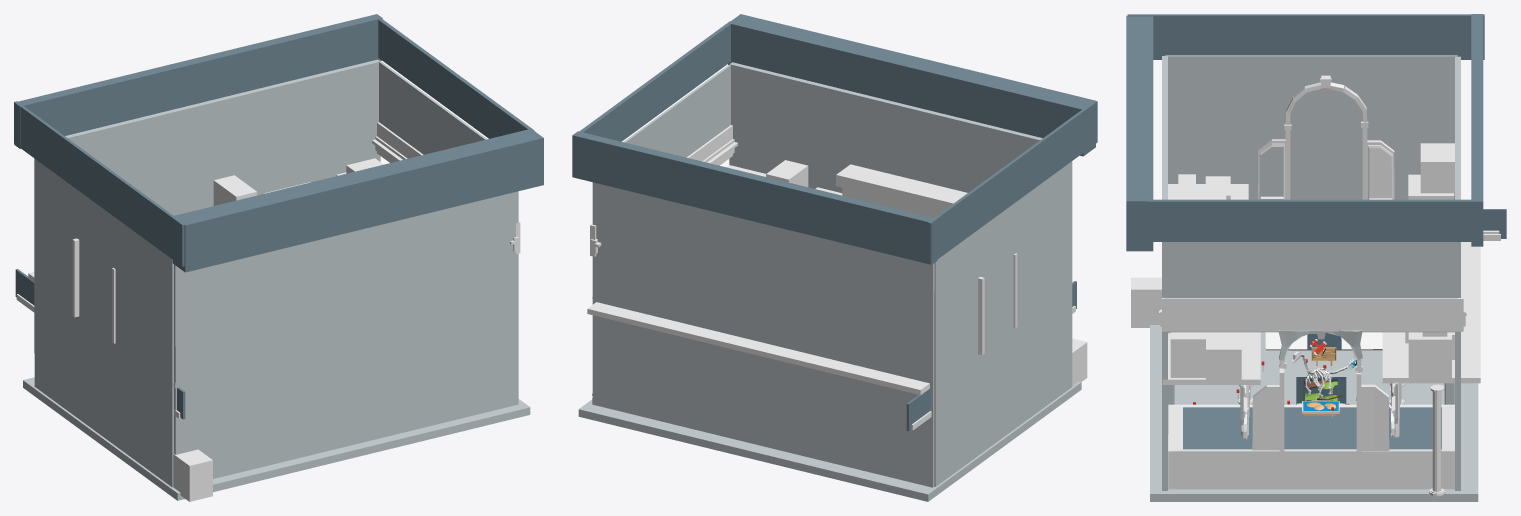
Rendered from the_entryway_-_museum_diorama.glb.
3 renders of one model, left to right at view 1: azimuth 30°, elevation 25°; view 2: azimuth 150°, elevation 25°; view 3: azimuth 270°, elevation 25°, orthographic. The views are drawn at different scales.
Parts seen in each view (by area): view 1: group853941034, group395243803, group156993652, group1953011220, group1925979723, group689543294, group558278867, group436196863, group793193501, group1582220023, group149663869, group1612683714 (+1 smaller); view 2: group156993652, group395243803, group853941034, group1925979723, group1953011220, group689543294, group558278867, group436196863, group719696710, group793193501, group1152385336, group149663869 (+5 smaller); view 3: group395243803, group793193501, group558278867, group436196863, group689543294, group1166085555_56a7db, group1676229897, group1166085555_3470f4, group1953011220, group391671949, group719696710, group149663869 (+19 smaller).
Boxes of the visible parts, <box> form: group853941034: <box>174,191,518,478</box>; group395243803: <box>34,159,173,487</box>; group156993652: <box>34,59,380,353</box>; group1953011220: <box>172,129,543,272</box>; group1925979723: <box>14,14,382,148</box>; group689543294: <box>14,101,185,266</box>; group558278867: <box>23,377,530,500</box>; group436196863: <box>378,19,534,138</box>; group793193501: <box>379,61,486,154</box>; group1582220023: <box>173,449,212,501</box>; group149663869: <box>72,238,115,343</box>; group1612683714: <box>213,175,257,205</box>; group156993652: <box>592,182,934,487</box>; group395243803: <box>934,161,1072,486</box>; group853941034: <box>729,62,1042,192</box>; group1925979723: <box>572,131,937,264</box>; group1953011220: <box>728,14,1095,156</box>; group689543294: <box>927,100,1097,264</box>; group558278867: <box>578,381,1081,501</box>; group436196863: <box>579,21,732,141</box>; group719696710: <box>587,302,929,395</box>; group793193501: <box>623,65,730,157</box>; group1152385336: <box>836,164,967,211</box>; group149663869: <box>978,253,1017,354</box>; group395243803: <box>1165,55,1457,199</box>; group793193501: <box>1164,242,1457,332</box>; group558278867: <box>1150,325,1478,501</box>; group436196863: <box>1148,199,1471,241</box>; group689543294: <box>1127,14,1484,59</box>; group1166085555_56a7db: <box>1168,403,1454,489</box>; group1676229897: <box>1162,296,1463,331</box>; group1166085555_3470f4: <box>1183,407,1441,449</box>; group1953011220: <box>1126,15,1153,251</box>; group391671949: <box>1252,332,1389,454</box>; group719696710: <box>1382,242,1480,383</box>; group149663869: <box>1258,75,1394,199</box>.
Size of the model in its own units: 9.61 by 7.19 by 8.2.
